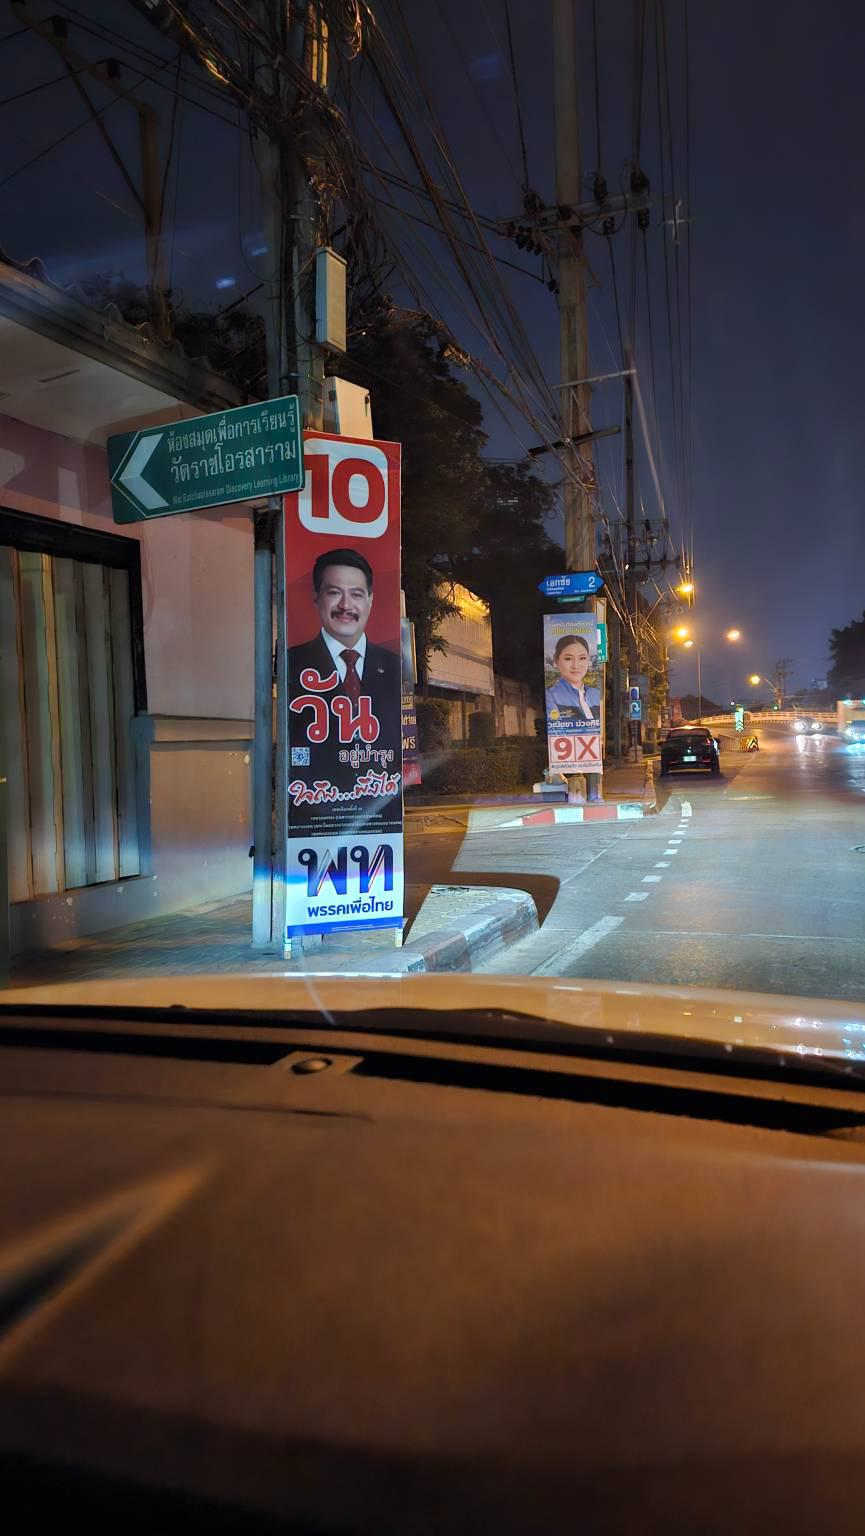Banner: (269, 418, 421, 947)
